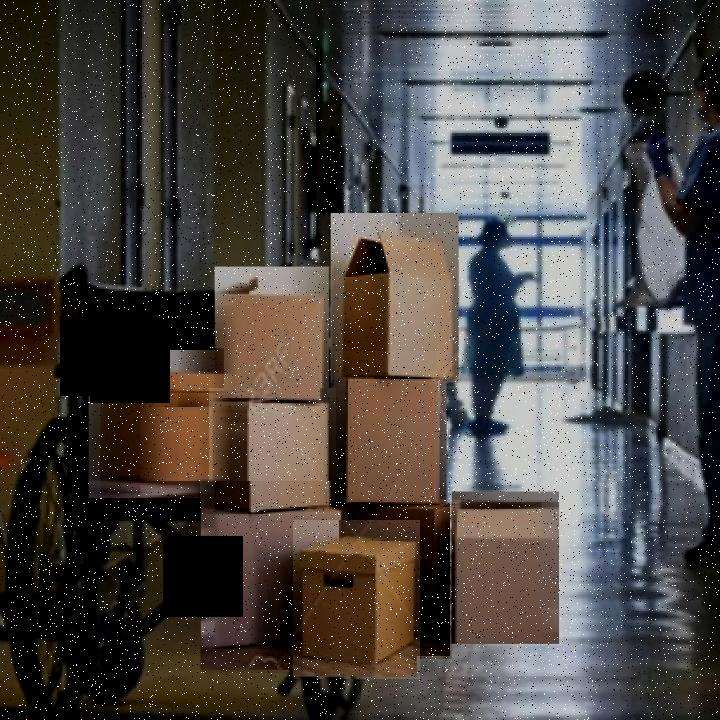box: (200, 481, 349, 673), (329, 211, 462, 386), (88, 348, 224, 502), (294, 520, 422, 679), (334, 351, 448, 514), (450, 490, 562, 646), (209, 388, 338, 521), (213, 266, 332, 402), (351, 502, 452, 659)
